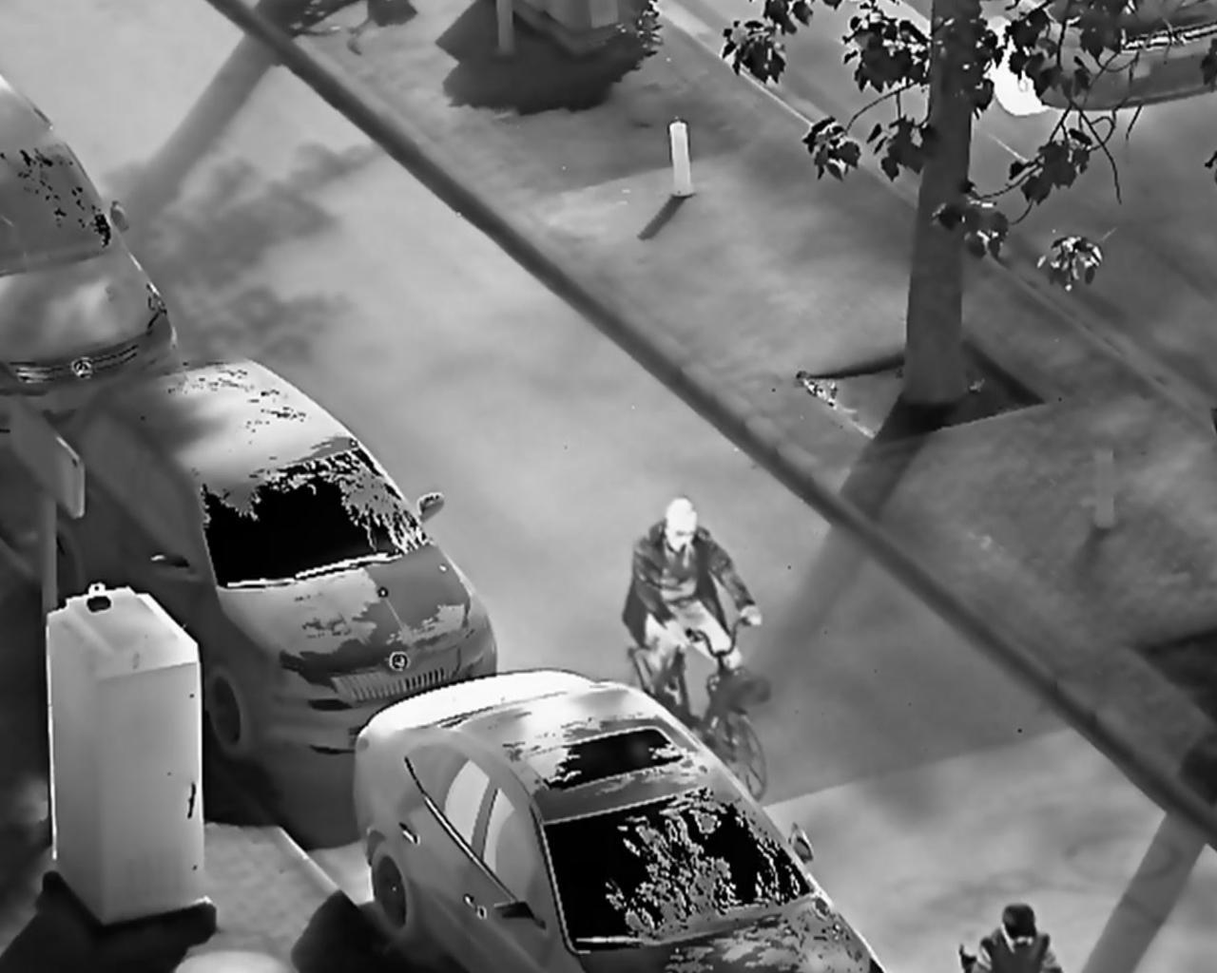person: (628, 494, 764, 705)
